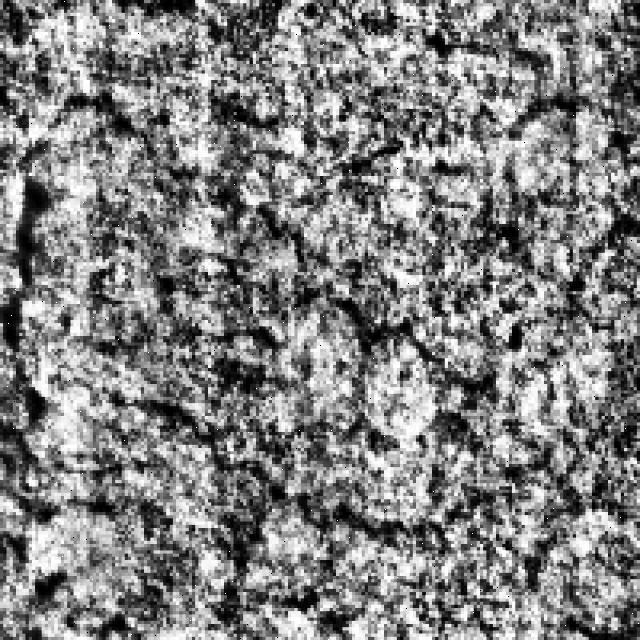Pitted_Surface: (58, 80, 502, 608)
